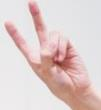front: (1, 1, 93, 101)
